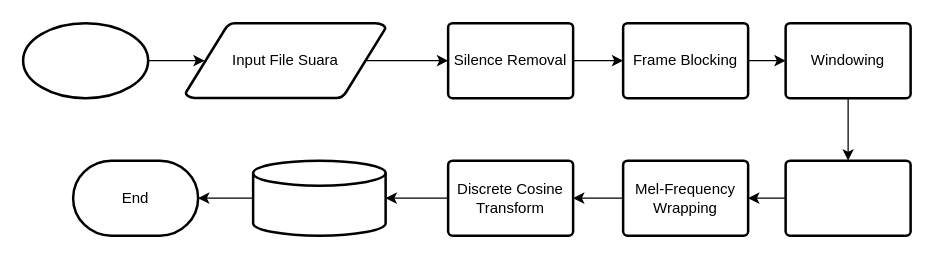
Image size: 933x258. Some labels were removed from this diagram. The shapes that lost their labels are listed below. From the top down, each one's centre as x and y in pixels, then its label:
point (85, 60): Start
point (318, 197): Database
point (847, 197): Fast Fourier Transform
